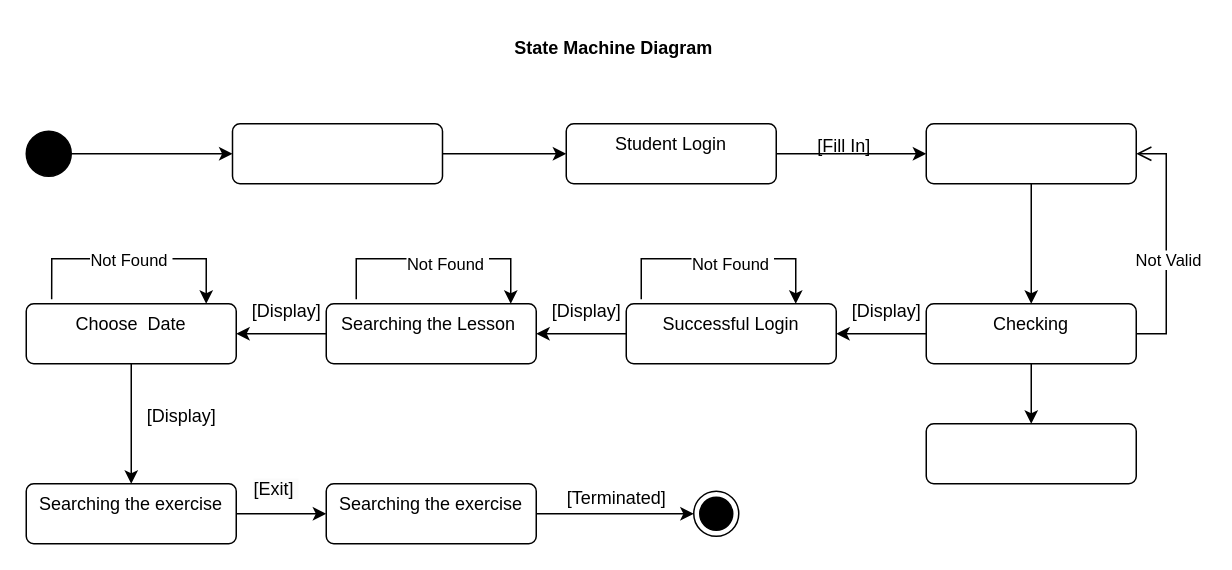
Some shapes in this 1232 by 570 pixel diagram are drawn without their labels. The box of each missing label's shape, as (x1, y1, x2, y2) in pixels:
*Idle: (231, 122, 442, 184)
Searching UserName and Password: (925, 422, 1136, 484)
Verifying: (925, 122, 1136, 184)
